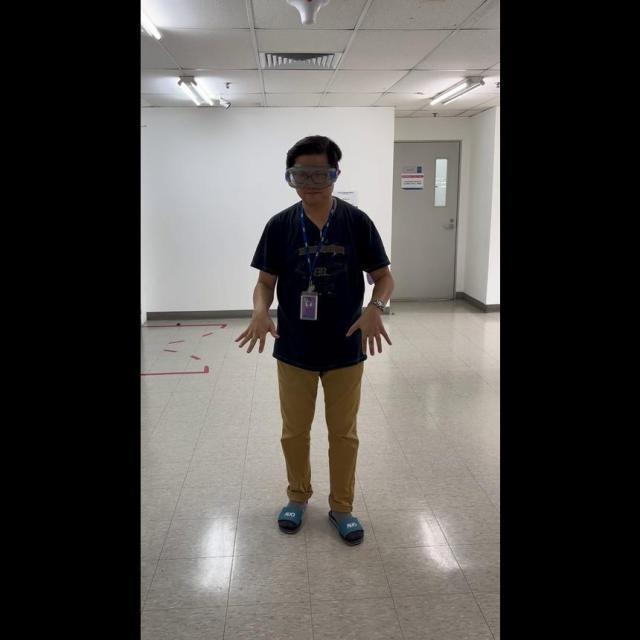bare_hand: (344, 302, 392, 355), (233, 307, 278, 353)
